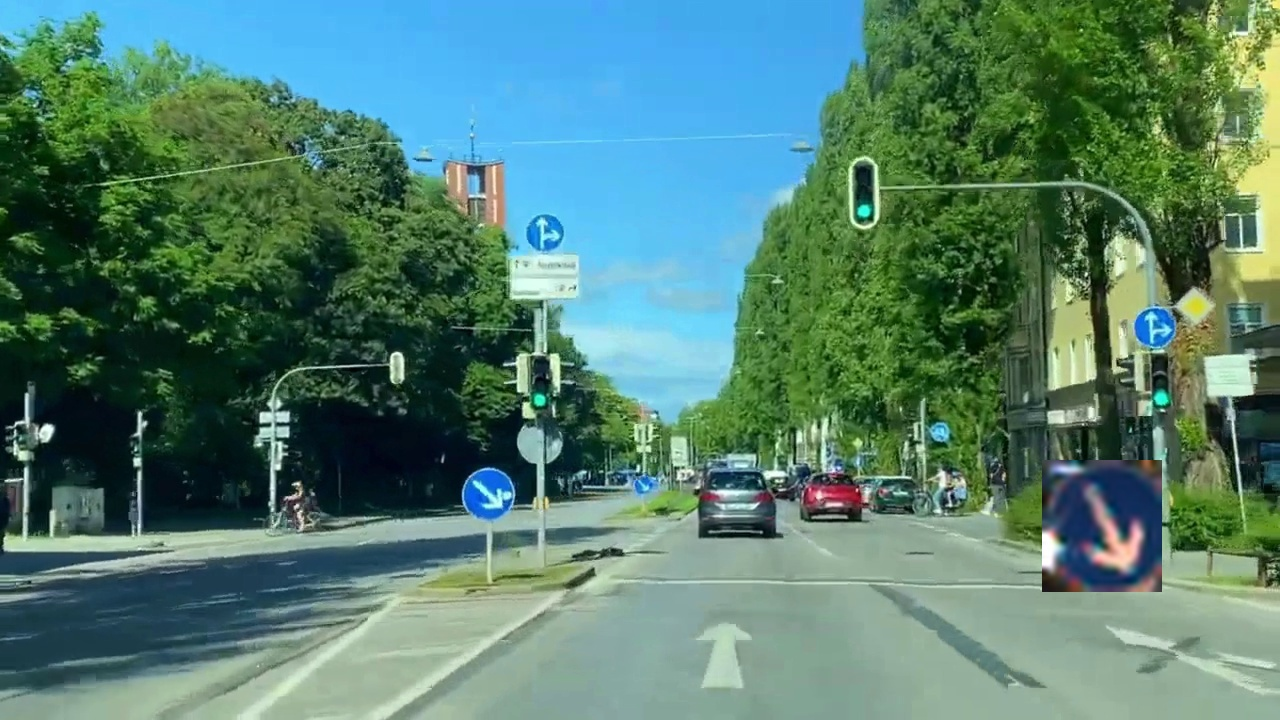Keep right: (1042, 460, 1162, 592)
